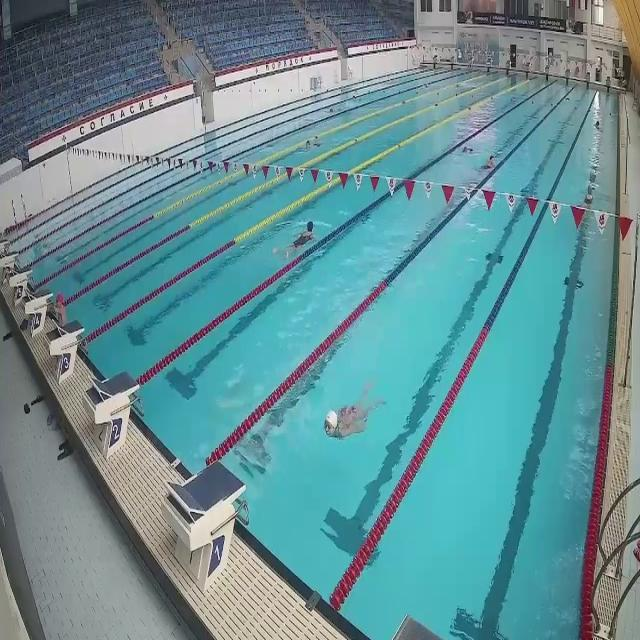Swimming: (308, 374, 398, 456), (273, 216, 329, 262), (473, 147, 506, 183), (299, 133, 336, 155)
